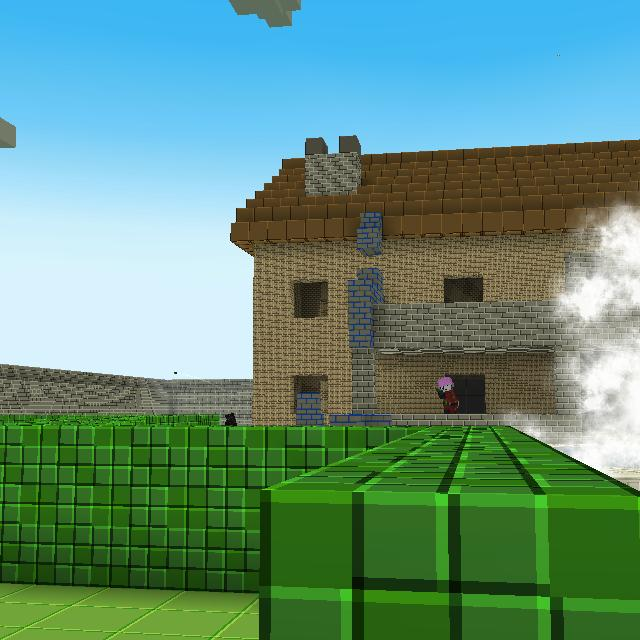enemy: (437, 374, 458, 416), (224, 412, 238, 427)
